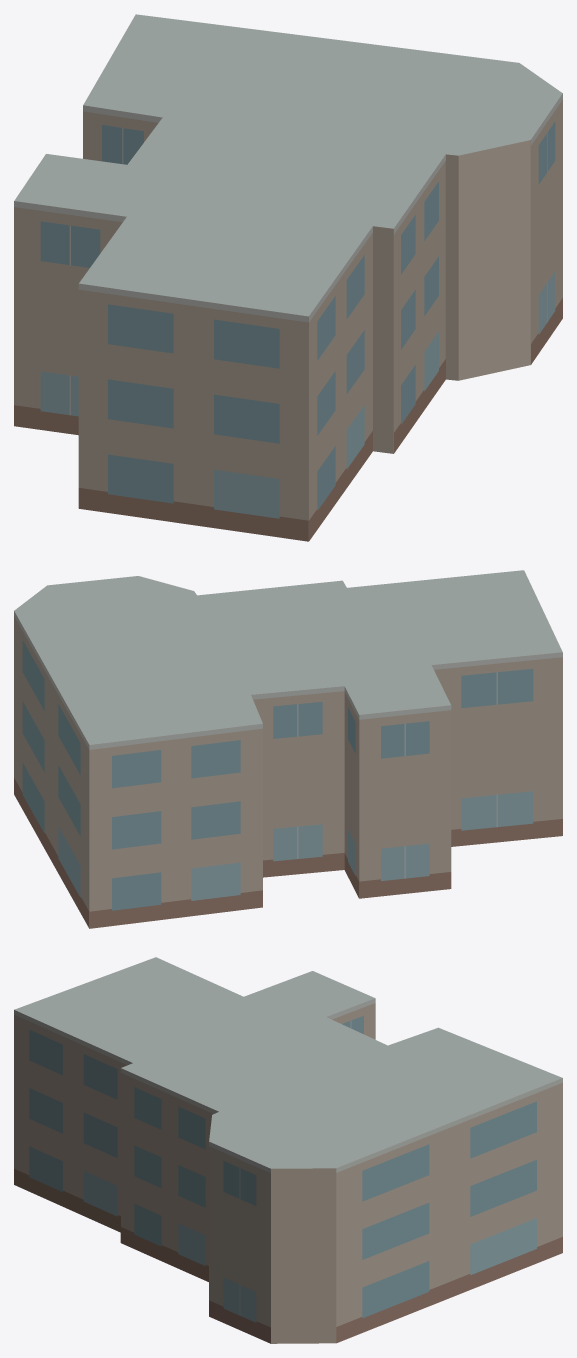
File: survey-upis-32492544.glb
The picture shows the model from 3 angles, top to bottom: view 1: azimuth 30°, elevation 25°; view 2: azimuth 150°, elevation 25°; view 3: azimuth 270°, elevation 25°; orthographic projection. The views are drawn at different scales.
Parts seen in each view (by area): view 1: survey-upis-32492544.tmp; view 2: survey-upis-32492544.tmp; view 3: survey-upis-32492544.tmp.
Part boxes in pixels (x1,y1,x2,y2): survey-upis-32492544.tmp: (14, 14, 562, 541); survey-upis-32492544.tmp: (14, 570, 562, 928); survey-upis-32492544.tmp: (14, 957, 562, 1343).
Size of the model in its own units: 23.74 by 9.15 by 26.01.
